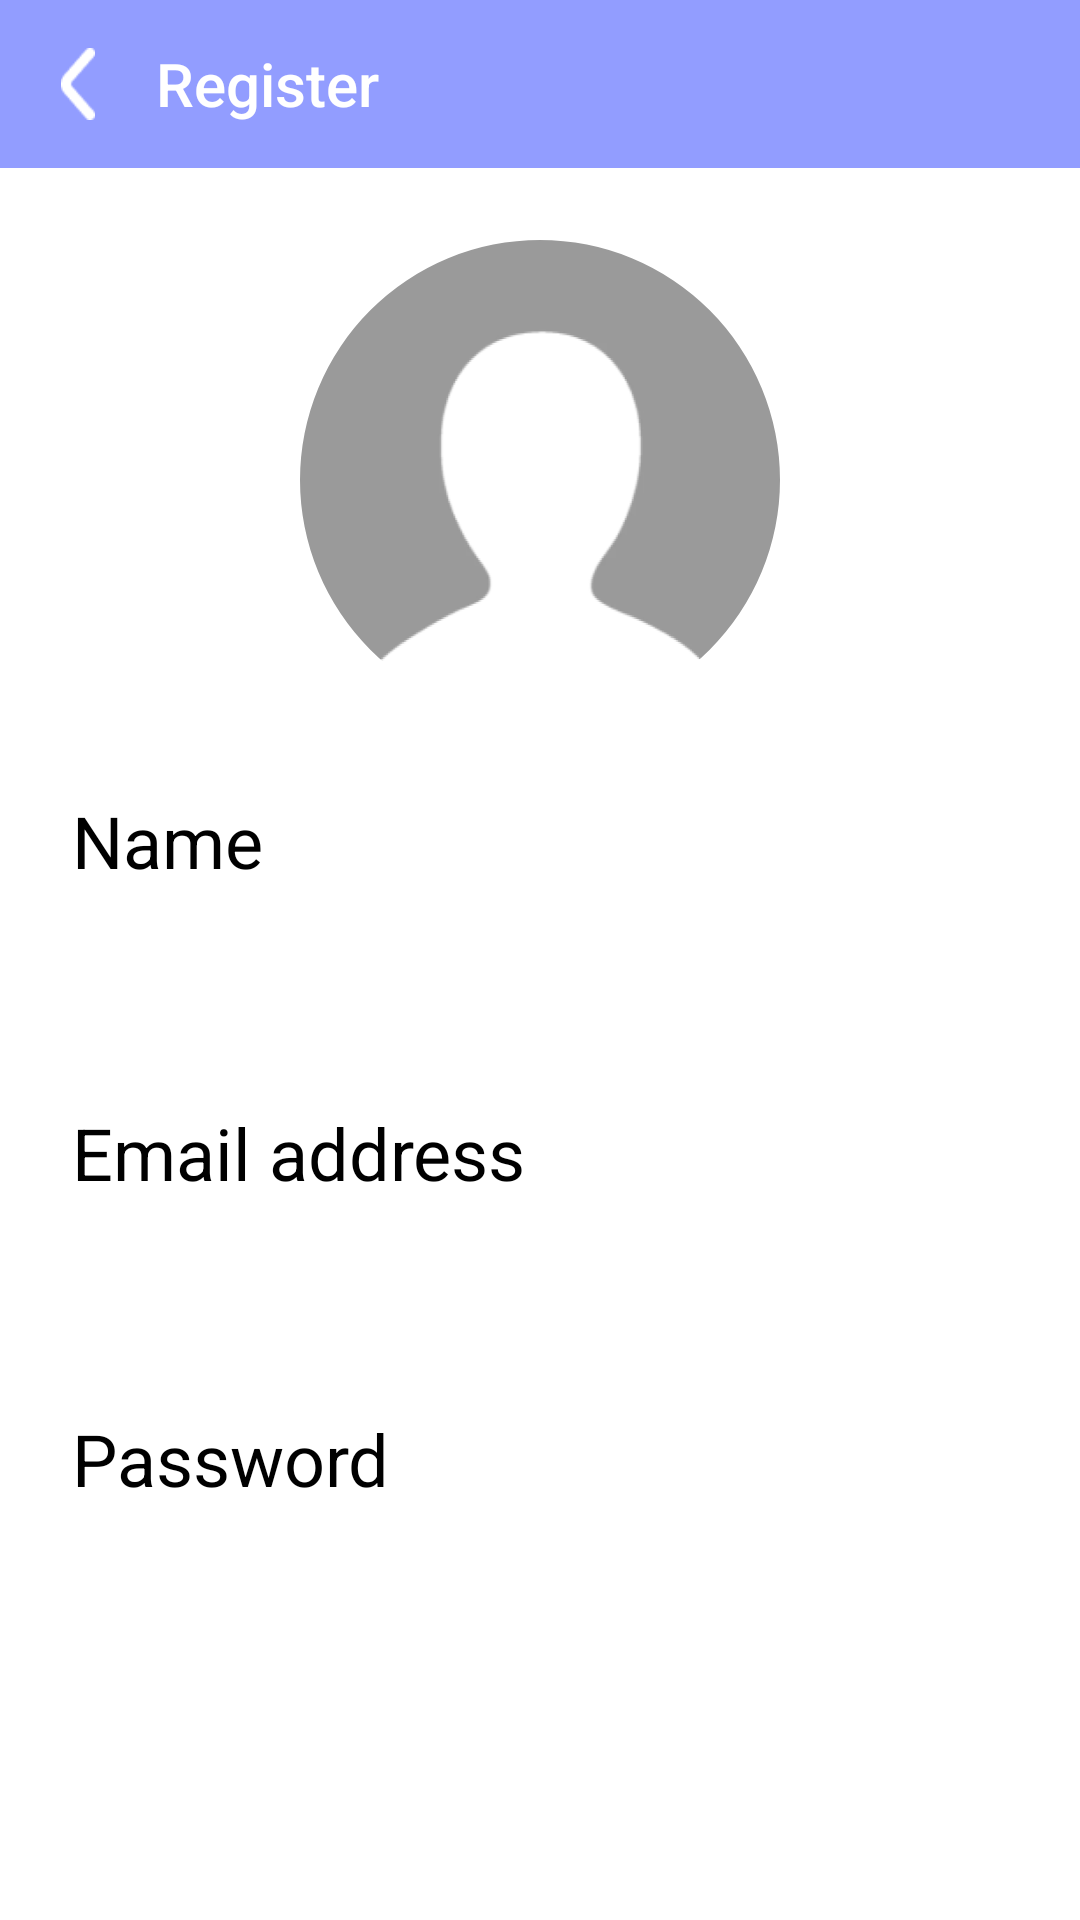

Where icons sit on this 1080×1920 app screen, as (x1, y1, x2, y2):
back navigation: (61, 48, 95, 120)
